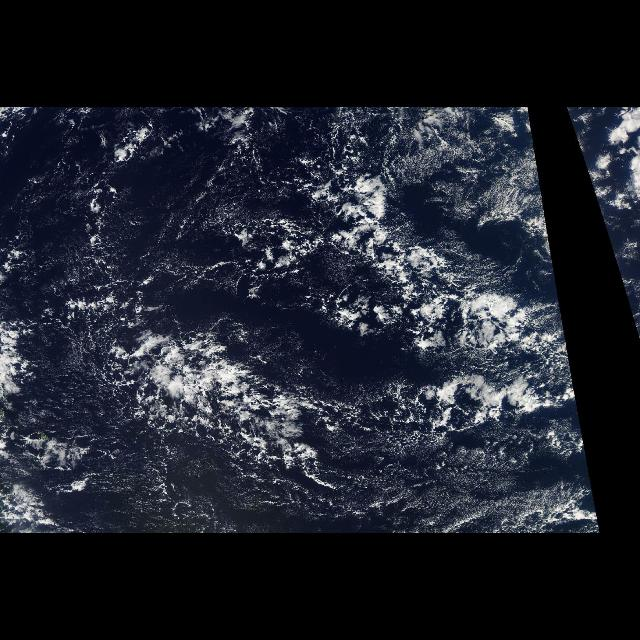Gravel: (3, 116, 597, 532), (569, 116, 597, 202)
Sugar: (385, 451, 601, 534), (384, 113, 538, 213)
